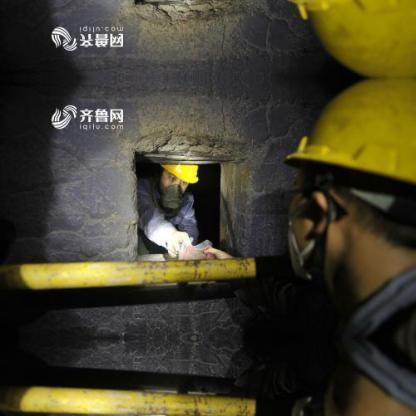helmet: (290, 76, 416, 190), (156, 159, 199, 187)
